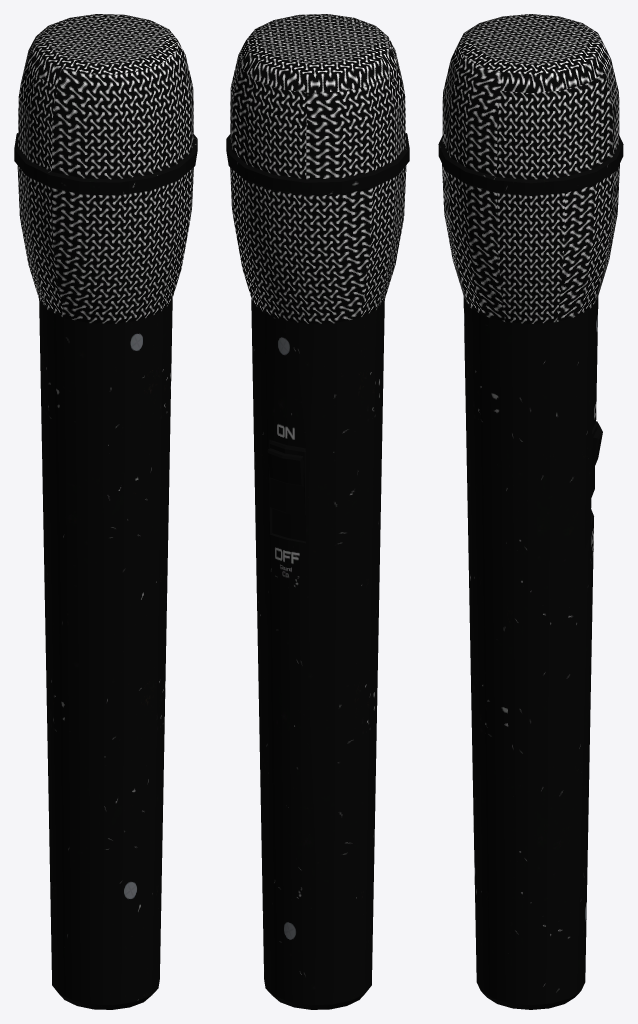
File: MicrophoneClub.glb
3 renders of one model, left to right at view 1: azimuth 30°, elevation 25°; view 2: azimuth 150°, elevation 25°; view 3: azimuth 270°, elevation 25°, orthographic.
Visible parts, largest first — view 1: Mic; view 2: Mic, ON OFF Switch; view 3: Mic, ON OFF Switch.
Part boxes in pixels (x1=…): Mic: x1=14, y1=14, x2=197, y2=1009; Mic: x1=226, y1=14, x2=409, y2=1009; ON OFF Switch: x1=267, y1=440, x2=305, y2=516; Mic: x1=438, y1=14, x2=623, y2=1009; ON OFF Switch: x1=591, y1=421, x2=602, y2=497.
Size of the model in its own units: 0.0802 by 0.4541 by 0.0802.
Materials: 1 (1 with a texture image).
